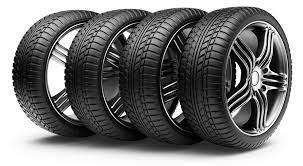tire: (178, 6, 292, 151), (118, 7, 208, 147), (64, 9, 149, 142), (12, 9, 97, 138)
